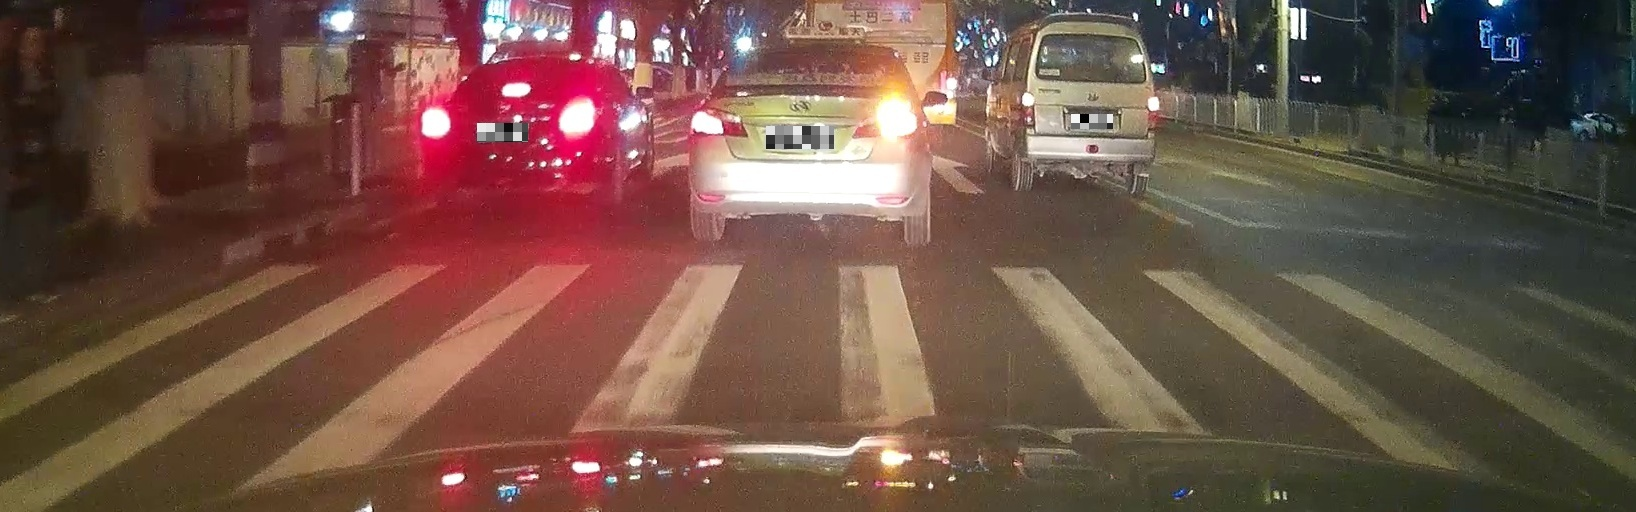L_light: (691, 106, 748, 137), (420, 107, 451, 140), (1022, 92, 1035, 126)
R_light: (853, 95, 923, 139), (558, 95, 597, 139), (1146, 96, 1159, 128)
T_light: (501, 82, 530, 97), (807, 51, 831, 58), (1085, 34, 1102, 39)
night-no: (420, 53, 599, 222), (1022, 13, 1158, 195)
night-right: (689, 42, 931, 244)
plate_1: (477, 123, 528, 142)
plate_2: (766, 126, 834, 149)
plate_3: (1070, 114, 1113, 129)
